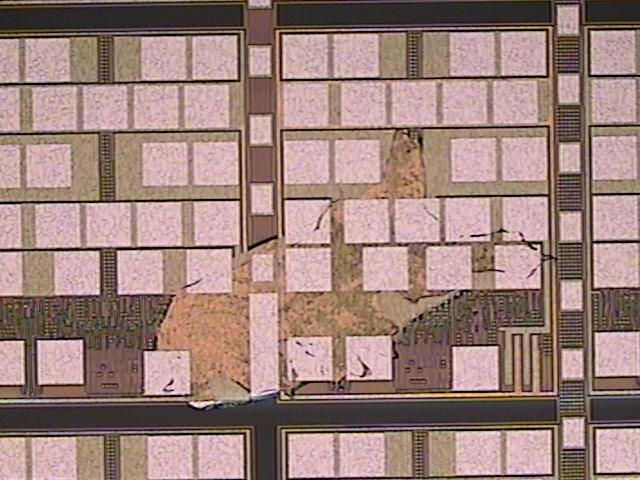BLOCK ETCH: (150, 119, 564, 420)
